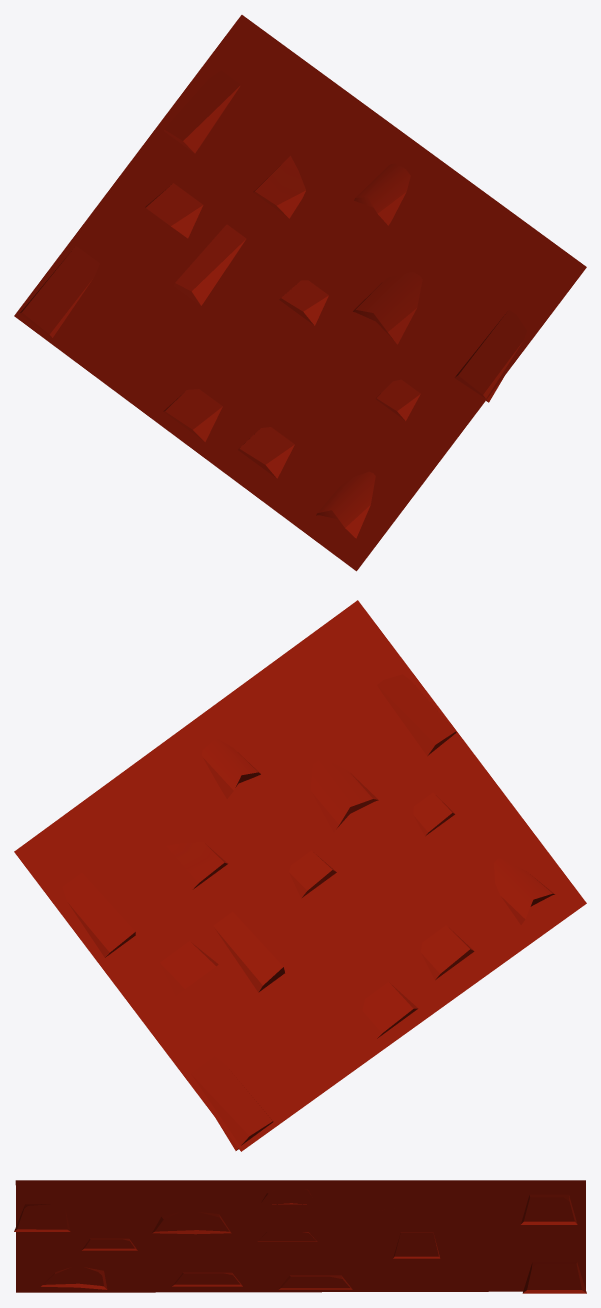
The model's file is SM_L_R_Home_Roof.fbx.
3 views of the same model, one above another, from view 1: azimuth 30°, elevation 25°; view 2: azimuth 150°, elevation 25°; view 3: azimuth 270°, elevation 25° (orthographic). The views are drawn at different scales.
Visible parts, largest first — view 1: SM_L_R_Home_Roof; view 2: SM_L_R_Home_Roof; view 3: SM_L_R_Home_Roof.
Part boxes in pixels (x1,y1,x2,y2): SM_L_R_Home_Roof: (14,15,586,571); SM_L_R_Home_Roof: (14,600,586,1151); SM_L_R_Home_Roof: (14,1180,586,1293).
Size of the model in its own units: 1.5 by 1.55 by 3.92.
